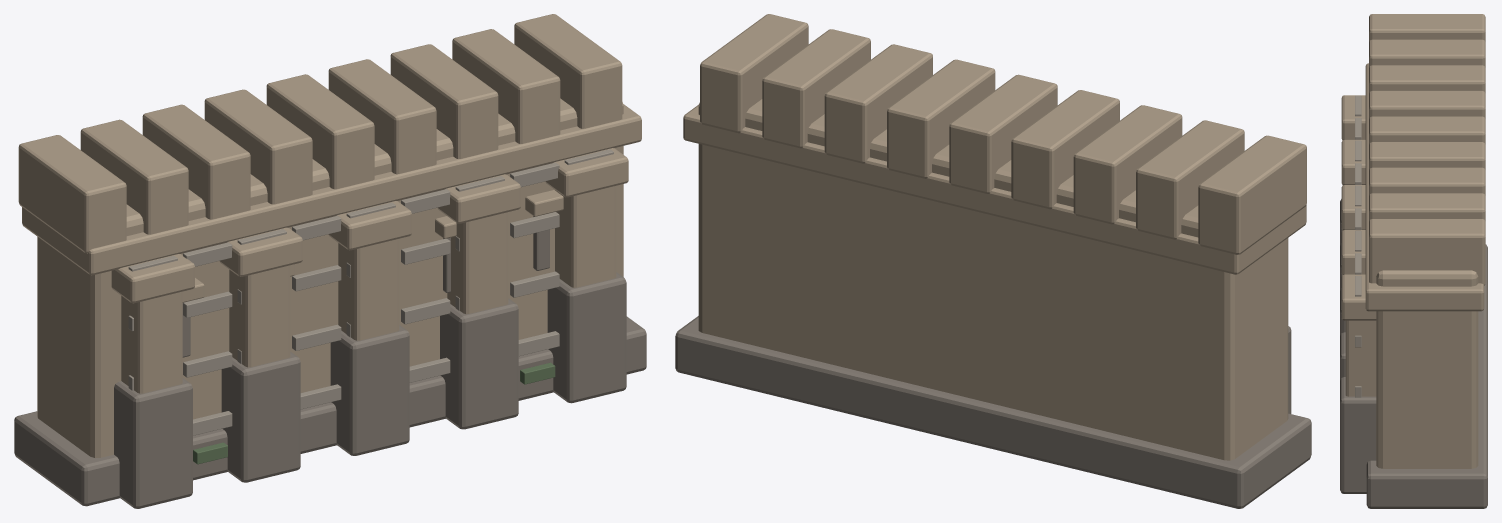
The model's file is Valoria_Wall_LibraryV1.glb.
3 renders of one model, left to right at view 1: azimuth 30°, elevation 25°; view 2: azimuth 150°, elevation 25°; view 3: azimuth 270°, elevation 25°, orthographic. The views are drawn at different scales.
Parts seen in each view (by area): view 1: Wall masonry core, Wall upper stringcourse, Wall plinth, Wall merlon, Wall buttress base, Wall buttress base.002, Wall buttress base.001, Wall buttress base.003, Wall buttress base.004, Wall merlon.004, Wall merlon.005, Wall merlon.003 (+31 smaller); view 2: Wall masonry core, Wall plinth, Wall upper stringcourse, Wall merlon, Wall merlon.002, Wall merlon.006, Wall merlon.004, Wall merlon.003, Wall merlon.007, Wall merlon.008, Wall merlon.001, Wall merlon.005; view 3: Wall masonry core, Wall plinth, Wall merlon.008, Wall upper stringcourse, Wall buttress base.004, Wall merlon.001, Wall merlon.006, Wall merlon.003, Wall merlon.007, Wall merlon.002, Wall merlon.004, Wall merlon (+8 smaller).
Boxes of the visible parts, x1,y1,x2,y2 form: Wall masonry core: [37, 98, 623, 458]; Wall upper stringcourse: [22, 104, 641, 275]; Wall plinth: [14, 316, 646, 506]; Wall merlon: [18, 135, 126, 253]; Wall buttress base: [114, 378, 192, 508]; Wall buttress base.002: [330, 325, 409, 455]; Wall buttress base.001: [221, 351, 300, 482]; Wall buttress base.003: [440, 298, 518, 429]; Wall buttress base.004: [547, 272, 626, 403]; Wall merlon.004: [266, 74, 374, 189]; Wall merlon.005: [328, 59, 436, 174]; Wall merlon.003: [204, 89, 312, 204]; Wall masonry core: [698, 99, 1288, 460]; Wall plinth: [675, 316, 1311, 508]; Wall upper stringcourse: [683, 104, 1306, 274]; Wall merlon: [1198, 135, 1306, 254]; Wall merlon.002: [1073, 105, 1182, 224]; Wall merlon.006: [824, 44, 932, 163]; Wall merlon.004: [949, 74, 1057, 193]; Wall merlon.003: [1011, 90, 1119, 209]; Wall merlon.007: [762, 29, 870, 148]; Wall merlon.008: [700, 14, 808, 133]; Wall merlon.001: [1136, 120, 1244, 239]; Wall merlon.005: [887, 59, 995, 178]; Wall masonry core: [1376, 270, 1478, 468]; Wall plinth: [1366, 244, 1487, 508]; Wall merlon.008: [1369, 219, 1485, 285]; Wall upper stringcourse: [1365, 63, 1484, 311]; Wall buttress base.004: [1340, 377, 1376, 493]; Wall merlon.001: [1369, 39, 1485, 67]; Wall merlon.006: [1369, 167, 1485, 195]; Wall merlon.003: [1369, 90, 1485, 118]; Wall merlon.007: [1369, 193, 1485, 221]; Wall merlon.002: [1369, 65, 1485, 93]; Wall merlon.004: [1369, 116, 1485, 144]; Wall merlon: [1369, 14, 1485, 41].
Size of the model in its own units: 4.56 by 2.42 by 1.22.
